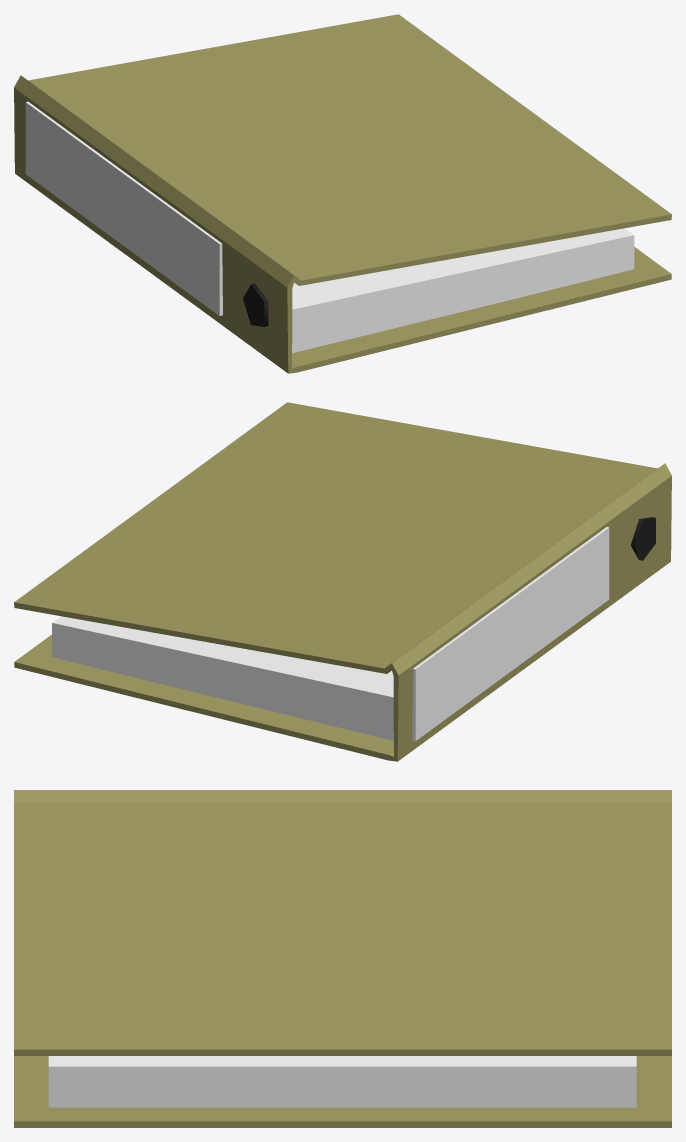
Rendered from SM_folder_03.fbx.
3 renders of one model, top to bottom at view 1: azimuth 30°, elevation 25°; view 2: azimuth 150°, elevation 25°; view 3: azimuth 270°, elevation 25°, orthographic. The views are drawn at different scales.
Visible parts, largest first — view 1: Object32264; view 2: Object32264; view 3: Object32264.
Boxes of the visible parts, x1,y1,x2,y2 form: Object32264: (14,14,671,373); Object32264: (14,402,671,761); Object32264: (14,790,671,1127).
Size of the model in its own units: 17.56 by 4.24 by 21.41.
